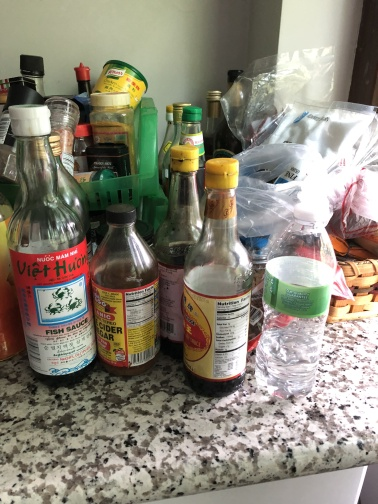bottle: (252, 201, 338, 402)
